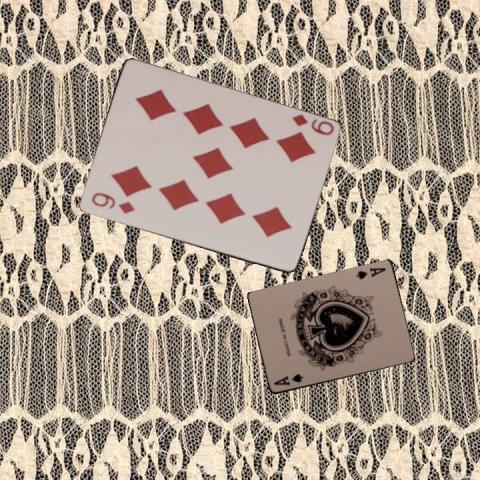9d: (88, 190, 136, 216), (289, 112, 335, 138)
As: (352, 264, 386, 281), (270, 372, 304, 388)
